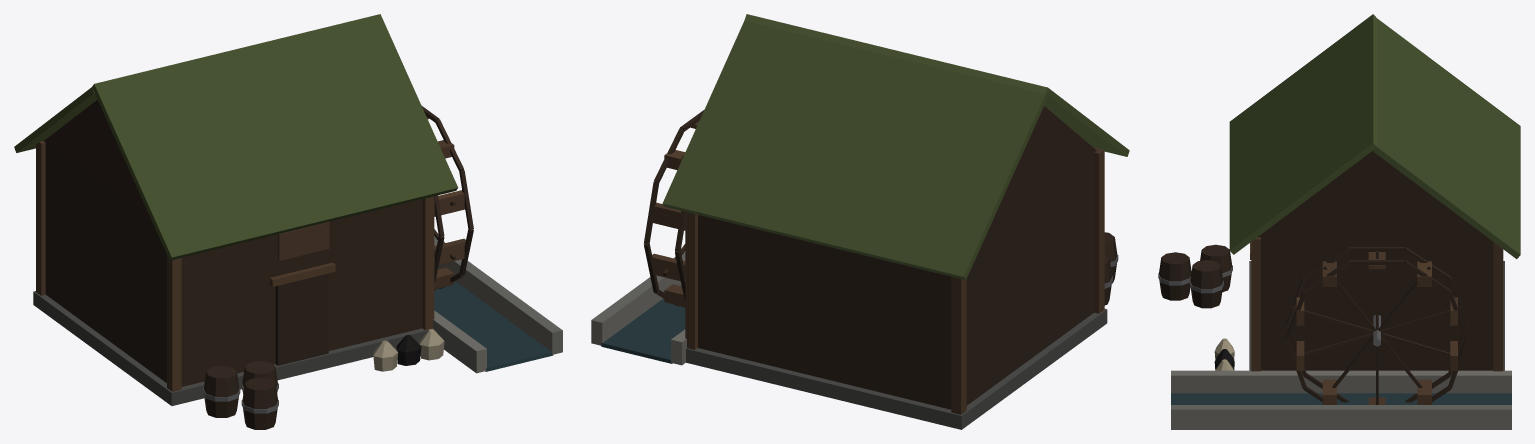
The model's file is walk_rime_mill.glb.
The picture shows the model from 3 angles, left to right: view 1: azimuth 30°, elevation 25°; view 2: azimuth 150°, elevation 25°; view 3: azimuth 270°, elevation 25°; orthographic projection. The views are drawn at different scales.
Visible parts, largest first — view 1: walk_rime_mill, walk_rime_mill_roof; view 2: walk_rime_mill, walk_rime_mill_roof; view 3: walk_rime_mill, walk_rime_mill_roof.
Boxes of the visible parts, <box> form: walk_rime_mill: <box>33,100,562,429</box>; walk_rime_mill_roof: <box>14,14,458,260</box>; walk_rime_mill: <box>591,106,1118,429</box>; walk_rime_mill_roof: <box>662,14,1129,279</box>; walk_rime_mill: <box>1158,150,1511,429</box>; walk_rime_mill_roof: <box>1229,14,1520,259</box>.
Size of what is drawn, in the model's own units: 8.52 by 6.36 by 8.08.
2 materials, 2 textured.
